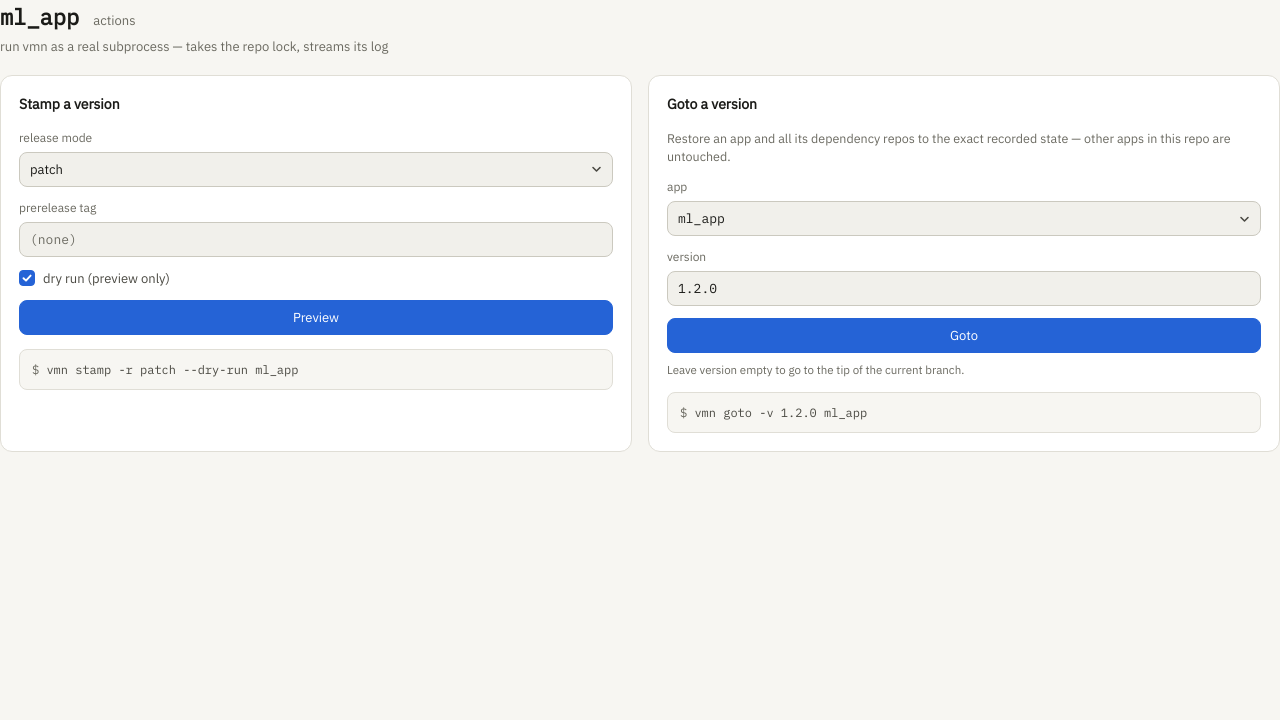
Scenario: Actions goto confirmation › runs goto only once the dialog is confirmed
Click the button "Goto".
click(964, 336)  # box [667,318,1261,353]
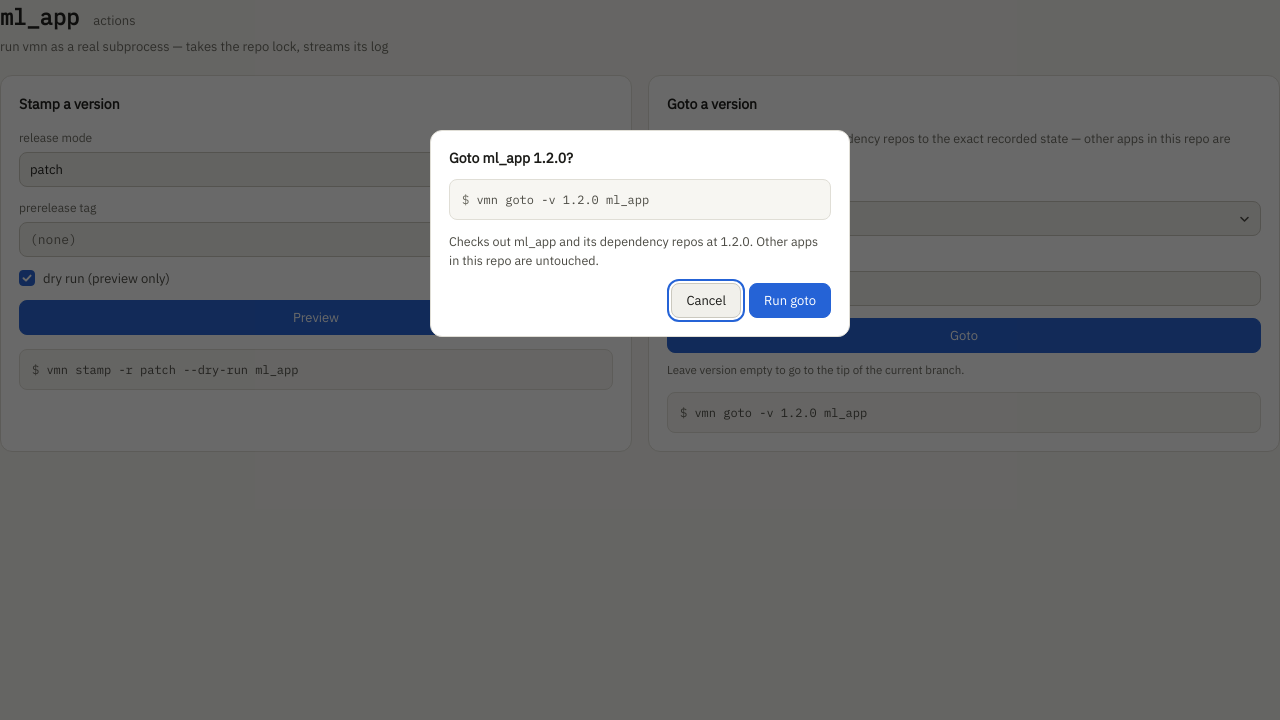
Click the button "Run goto".
click(790, 301)  # box [749,284,831,318]
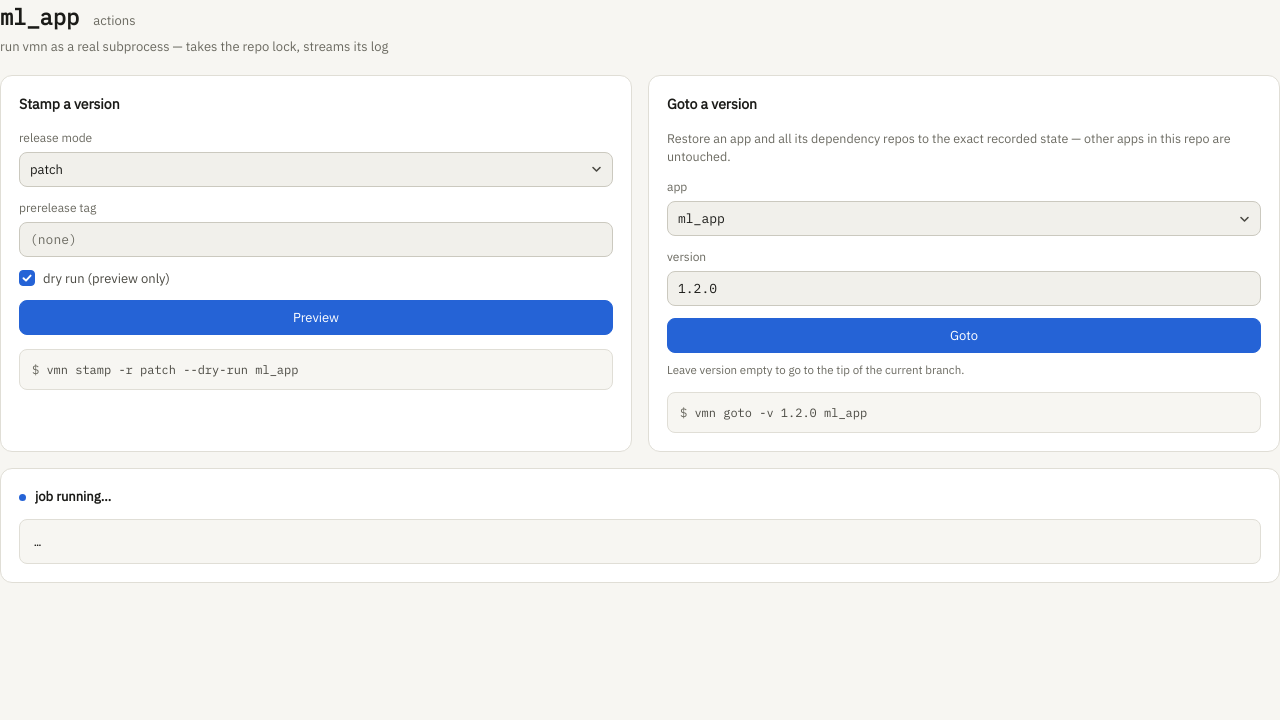
Expected: the dialog is gone
